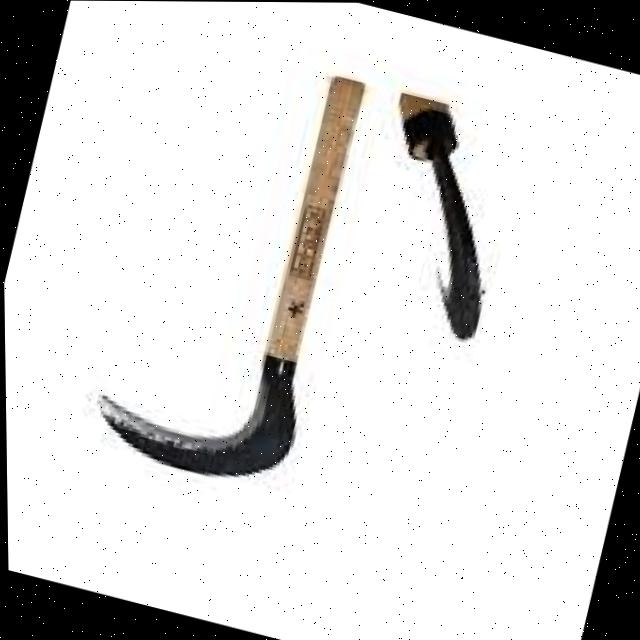sickle: (56, 0, 392, 516), (355, 48, 556, 381)
